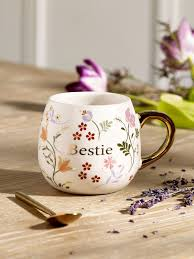mug: (11, 79, 176, 217)
